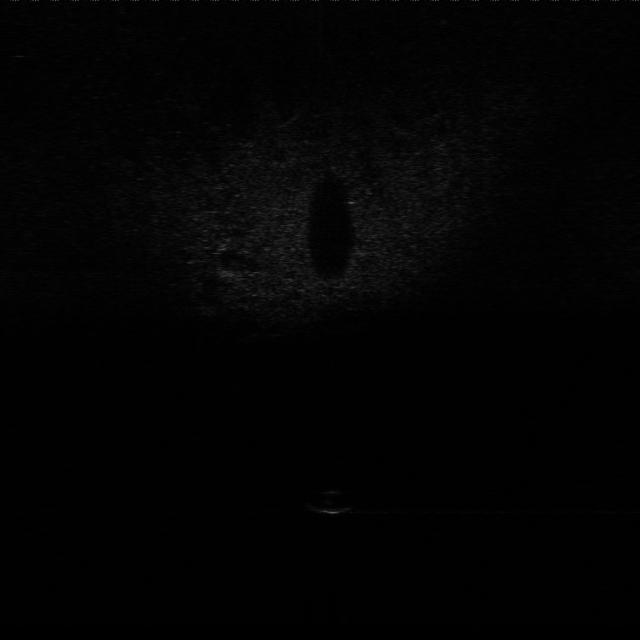ball: (312, 485, 357, 517)
